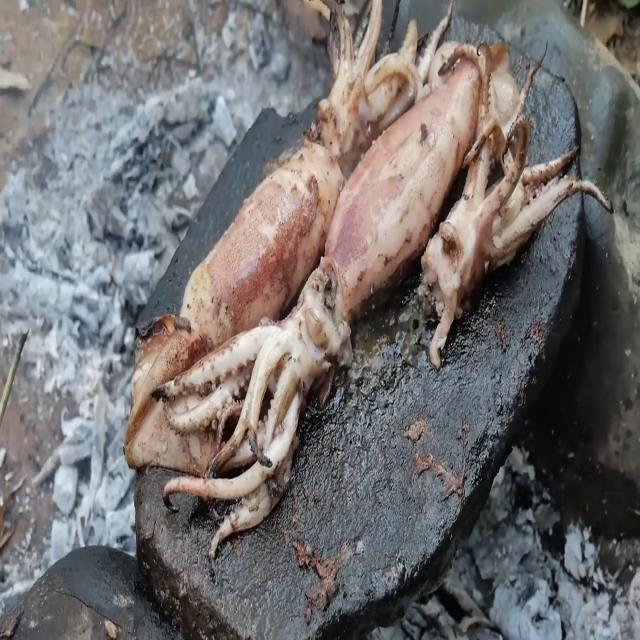squid: (160, 42, 496, 558), (126, 0, 452, 486)
